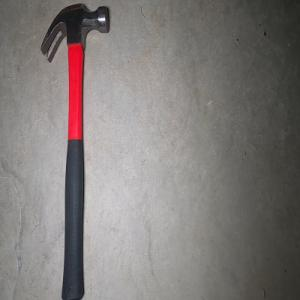Hammer: (39, 2, 109, 300)
